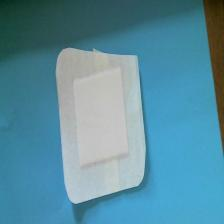Cut: (53, 42, 156, 211)
